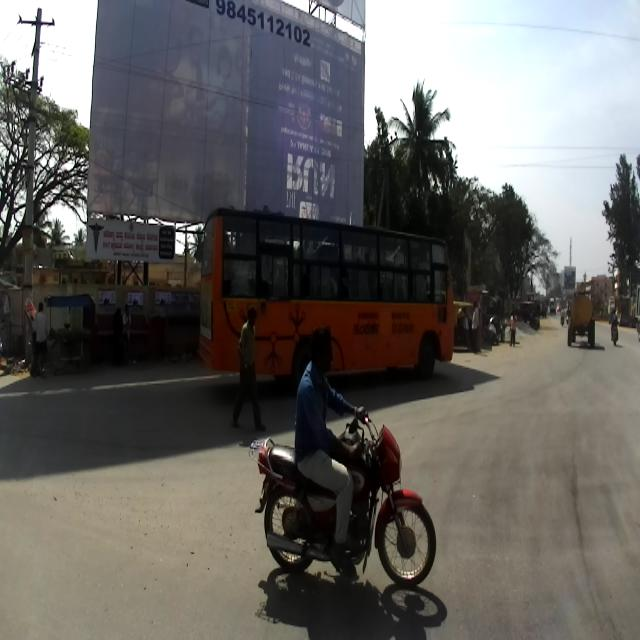motorcycle ahead at: (254, 422, 442, 590)
person ahead at: (230, 306, 266, 453)
